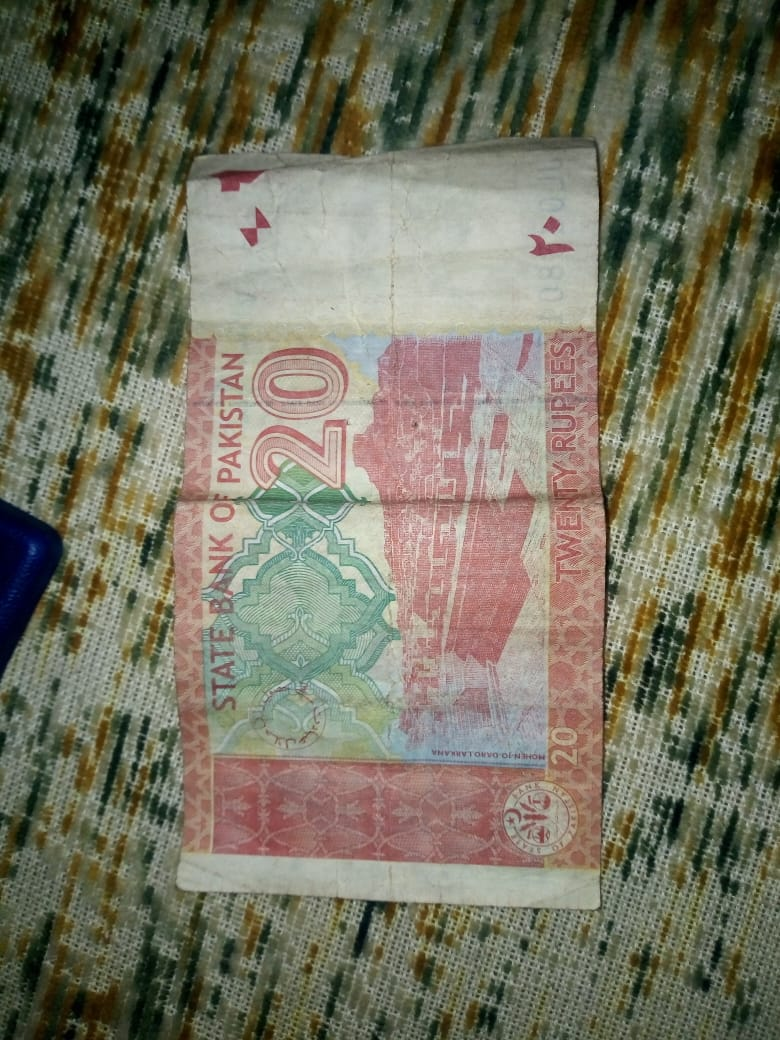20 rupee: (142, 146, 620, 943)
